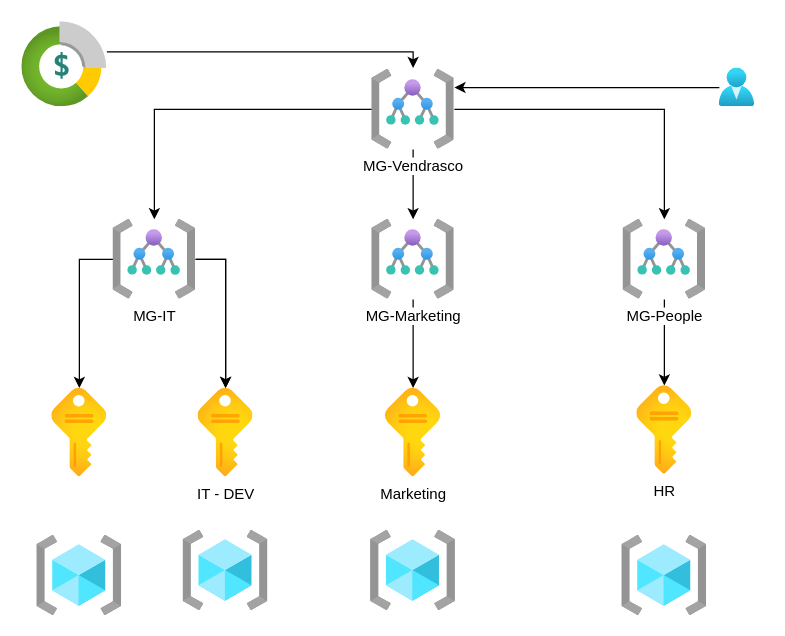
This 785x636 diagram has some shape labels left out. The shapes that lost their labels are listed below. From the top down, each one's box as (x1, y1, x2, y2) in pixels, then its label:
(21, 21, 106, 106): Billing
(719, 68, 754, 106): Security
(51, 388, 106, 476): IT - PRD
